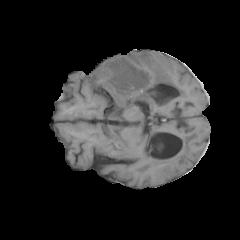glioma: (87, 51, 187, 117)
